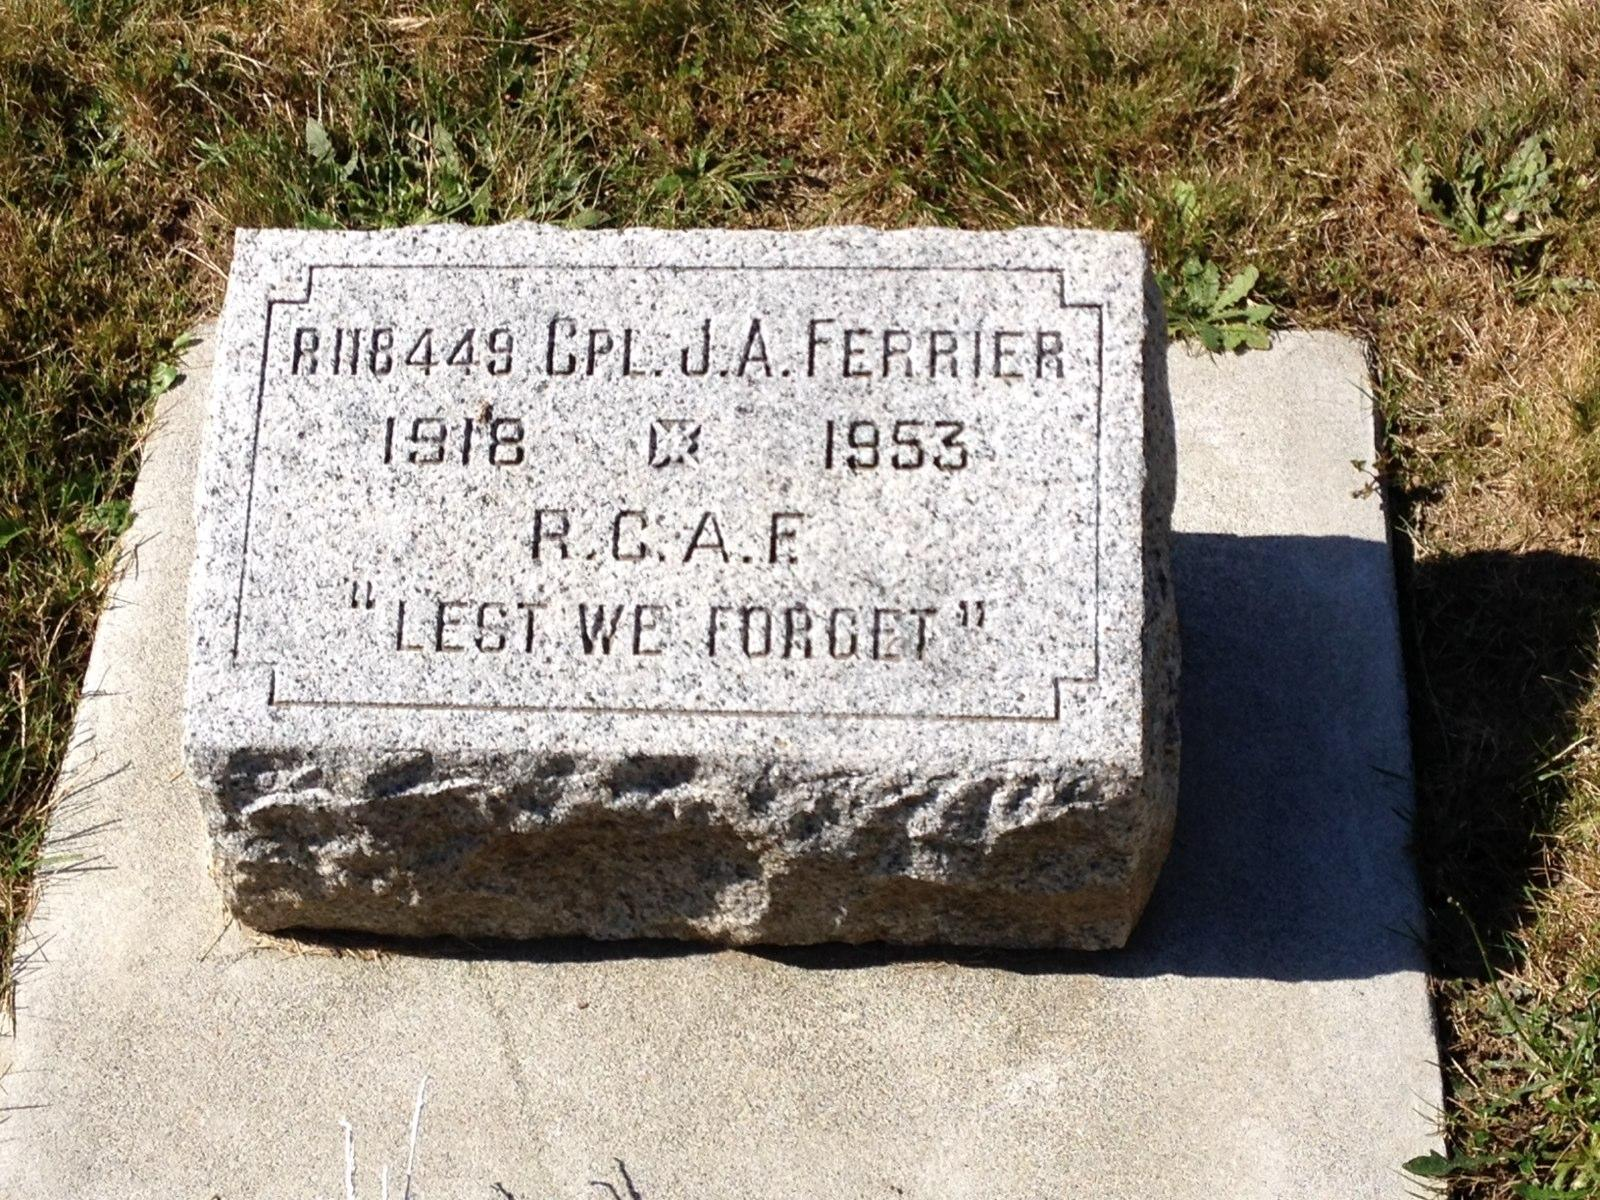slant: (184, 223, 1186, 961)
